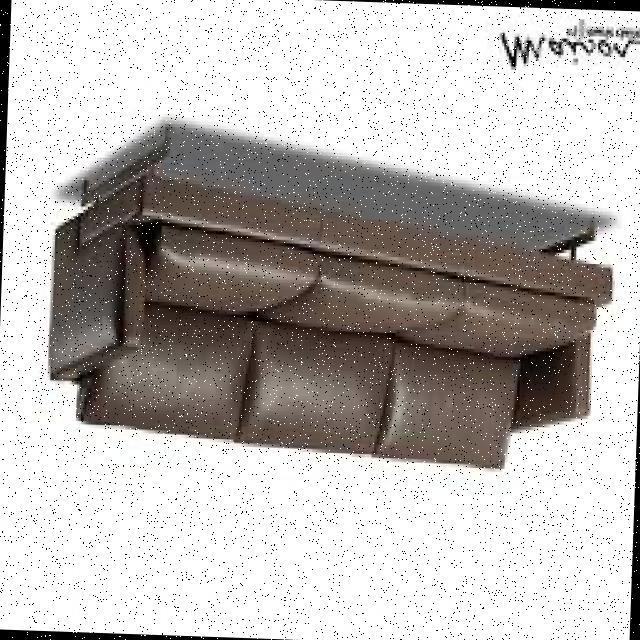Sofa: (33, 56, 634, 503)
